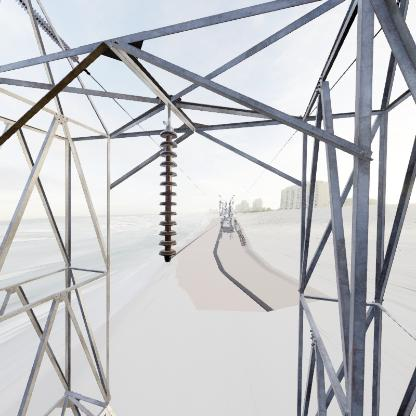insulator: (157, 127, 180, 266)
